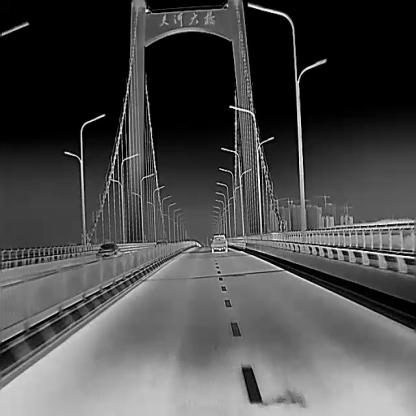car: (96, 243, 120, 261), (211, 233, 227, 251), (154, 240, 166, 246)
